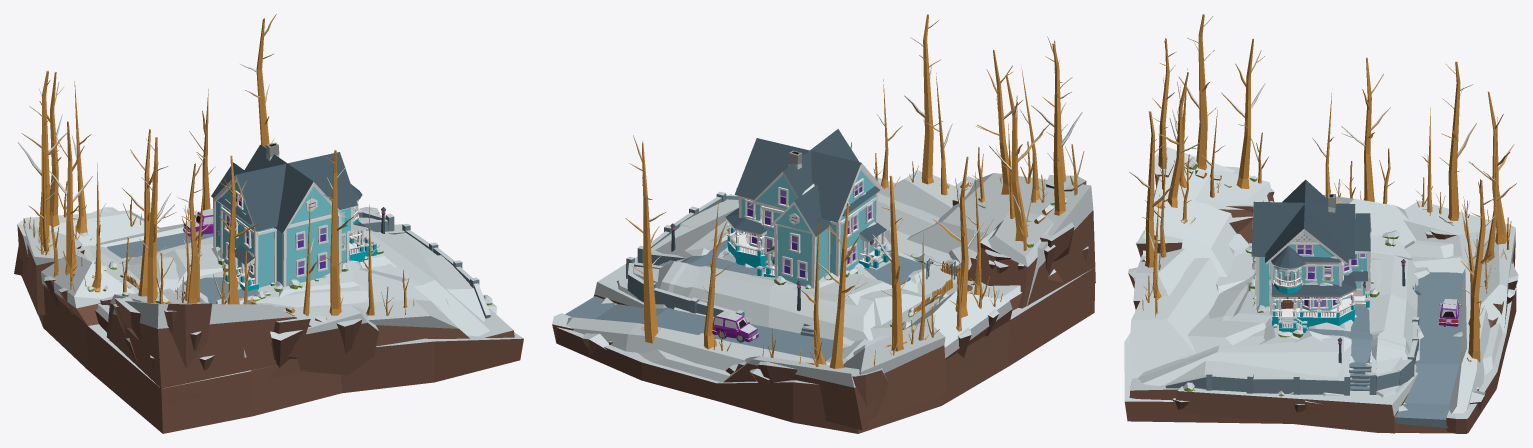
The model's file is casaconjunto_lev5.glb.
3 renders of one model, left to right at view 1: azimuth 30°, elevation 25°; view 2: azimuth 150°, elevation 25°; view 3: azimuth 270°, elevation 25°, orthographic. The views are drawn at different scales.
Parts seen in each view (by area): view 1: group1504191420, group2060585404, group101140434, casaconjunto_lev5, group1280178183, group1617572247, group1624478577, group1355921627, group231707998, group1145969062, group437086382, group1196403785 (+27 smaller); view 2: group2060585404, group1504191420, casaconjunto_lev5, group101140434, group231707998, group990022888, group1355921627, group1472510813, group1108866900, group1624478577, group1374377478, group1280178183 (+26 smaller); view 3: group2060585404, casaconjunto_lev5, group1742717586, group1617572247, group1108866900, group101140434, group1504191420, group990022888, group231707998, group1472510813, group1355921627, group1280178183 (+31 smaller).
Part boxes in pixels (x1=…): group1504191420: x1=38, y1=286, x2=523, y2=433; group2060585404: x1=211, y1=142, x2=383, y2=290; group101140434: x1=109, y1=301, x2=311, y2=405; casaconjunto_lev5: x1=118, y1=230, x2=490, y2=336; group1280178183: x1=293, y1=305, x2=378, y2=374; group1617572247: x1=294, y1=299, x2=469, y2=346; group1624478577: x1=41, y1=255, x2=135, y2=325; group1355921627: x1=14, y1=210, x2=160, y2=275; group231707998: x1=21, y1=222, x2=88, y2=315; group1145969062: x1=167, y1=302, x2=212, y2=368; group437086382: x1=323, y1=149, x2=353, y2=315; group1196403785: x1=424, y1=255, x2=485, y2=321; group2060585404: x1=722, y1=129, x2=889, y2=288; group1504191420: x1=556, y1=267, x2=1095, y2=433; casaconjunto_lev5: x1=655, y1=208, x2=917, y2=341; group101140434: x1=906, y1=173, x2=1095, y2=305; group231707998: x1=843, y1=324, x2=946, y2=425; group990022888: x1=566, y1=317, x2=830, y2=370; group1355921627: x1=723, y1=356, x2=876, y2=430; group1472510813: x1=967, y1=210, x2=1053, y2=308; group1108866900: x1=595, y1=304, x2=833, y2=360; group1624478577: x1=906, y1=291, x2=1012, y2=359; group1374377478: x1=625, y1=135, x2=665, y2=343; group1280178183: x1=878, y1=170, x2=954, y2=217; group2060585404: x1=1251, y1=179, x2=1371, y2=337; casaconjunto_lev5: x1=1138, y1=252, x2=1418, y2=386; group1742717586: x1=1176, y1=372, x2=1417, y2=433; group1617572247: x1=1129, y1=257, x2=1219, y2=371; group1108866900: x1=1404, y1=272, x2=1462, y2=404; group101140434: x1=1143, y1=147, x2=1251, y2=276; group1504191420: x1=1124, y1=261, x2=1516, y2=433; group990022888: x1=1449, y1=268, x2=1490, y2=413; group231707998: x1=1403, y1=200, x2=1507, y2=262; group1472510813: x1=1194, y1=169, x2=1274, y2=243; group1355921627: x1=1467, y1=227, x2=1515, y2=330; group1280178183: x1=1133, y1=248, x2=1194, y2=309.
Size of the model in its own units: 156 by 109 by 149.
